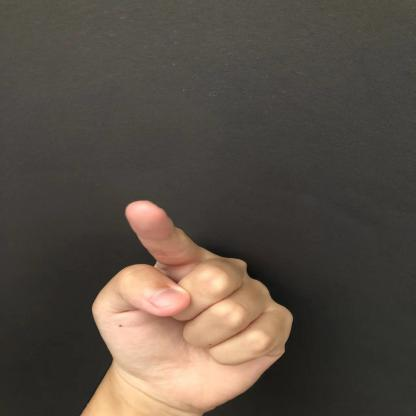finger_point: (71, 184, 246, 263)
